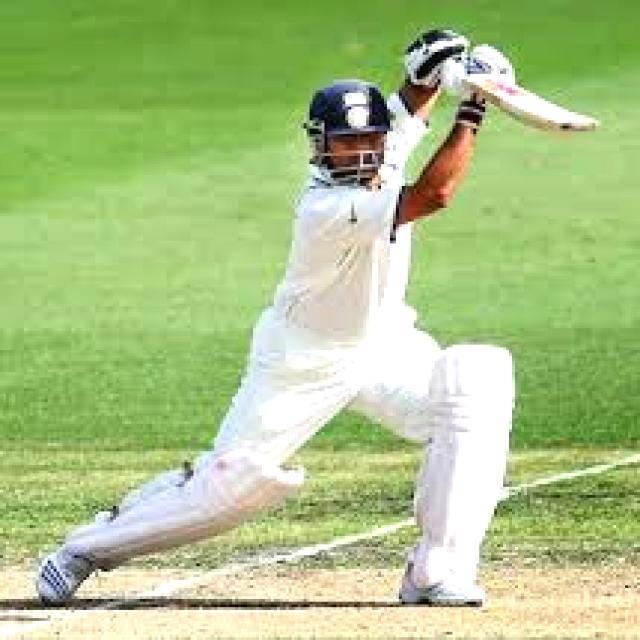bat: (454, 55, 615, 141)
toe: (550, 118, 604, 139)
